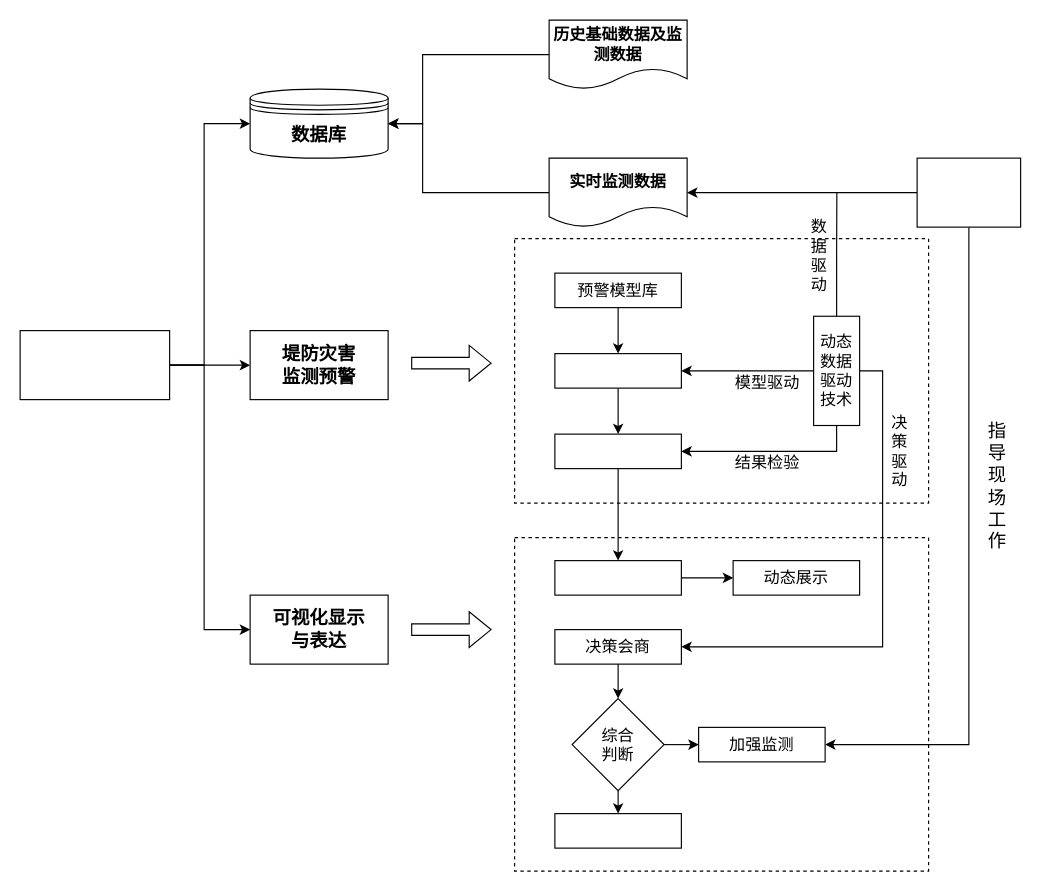
The diagram is 1052 pixels wide and 891 high, and some of its shapes have lost their labels. Each missing label, with the centre of its shape:
"初始预警分析" goes at point 617,370.
"危险分析" goes at point 617,577.
"应急补充 监测数据" goes at point 968,192.
"校正结果" goes at point 617,451.
"用户" goes at point 94,364.
"预警发布" goes at point 617,830.
